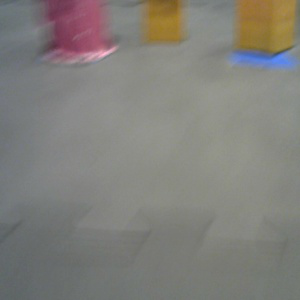middle: (41, 1, 117, 65)
